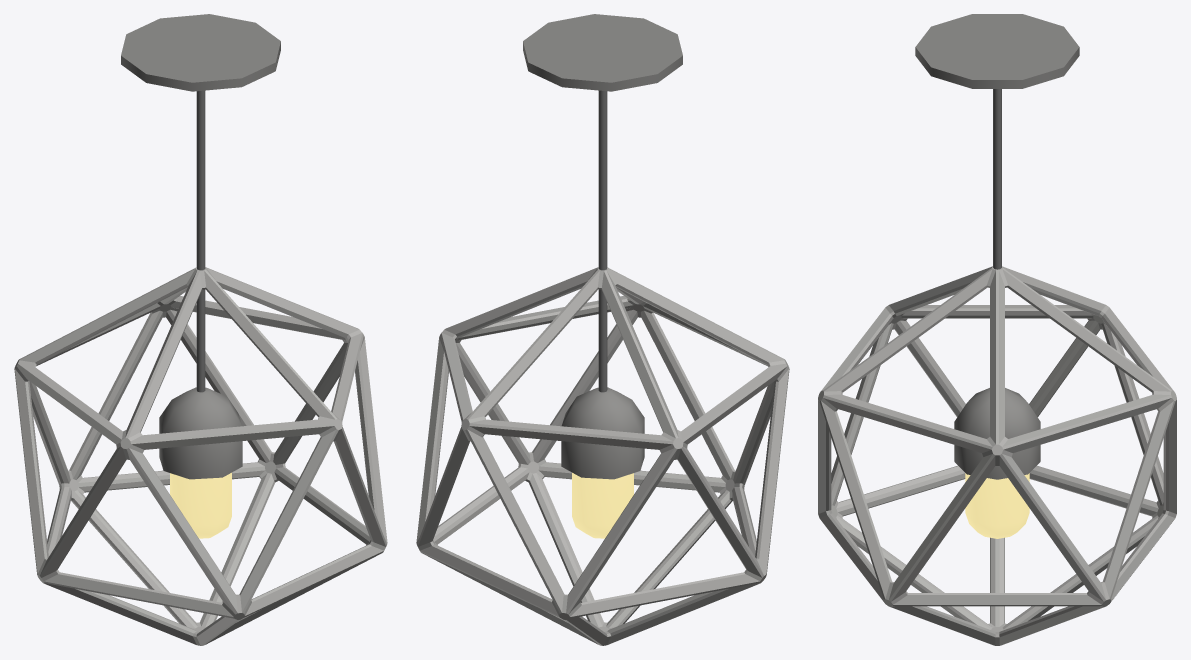
The model's file is light.glb.
3 renders of one model, left to right at view 1: azimuth 30°, elevation 25°; view 2: azimuth 150°, elevation 25°; view 3: azimuth 270°, elevation 25°, orthographic.
Parts seen in each view (by area): view 1: Light_Icosahedron; view 2: Light_Icosahedron; view 3: Light_Icosahedron.
Boxes of the visible parts, x1,y1,x2,y2 form: Light_Icosahedron: (14, 14, 387, 645); Light_Icosahedron: (416, 14, 789, 645); Light_Icosahedron: (818, 14, 1176, 645).
Bounding box in the file's own units: 5.52 × 9.68 × 5.27.
